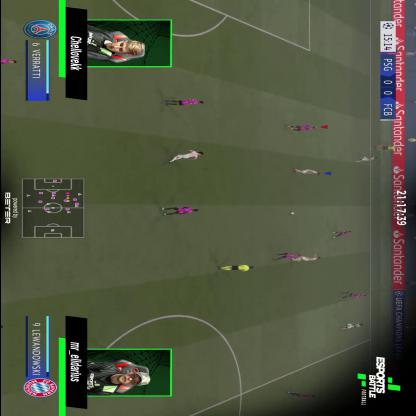ball: (290, 212, 294, 214)
